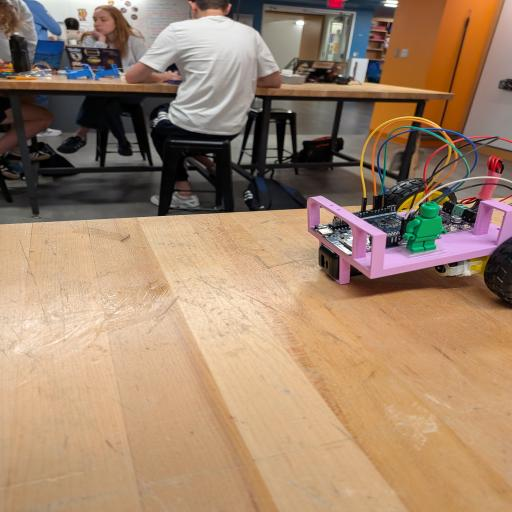Minifig: (404, 201, 446, 253)
